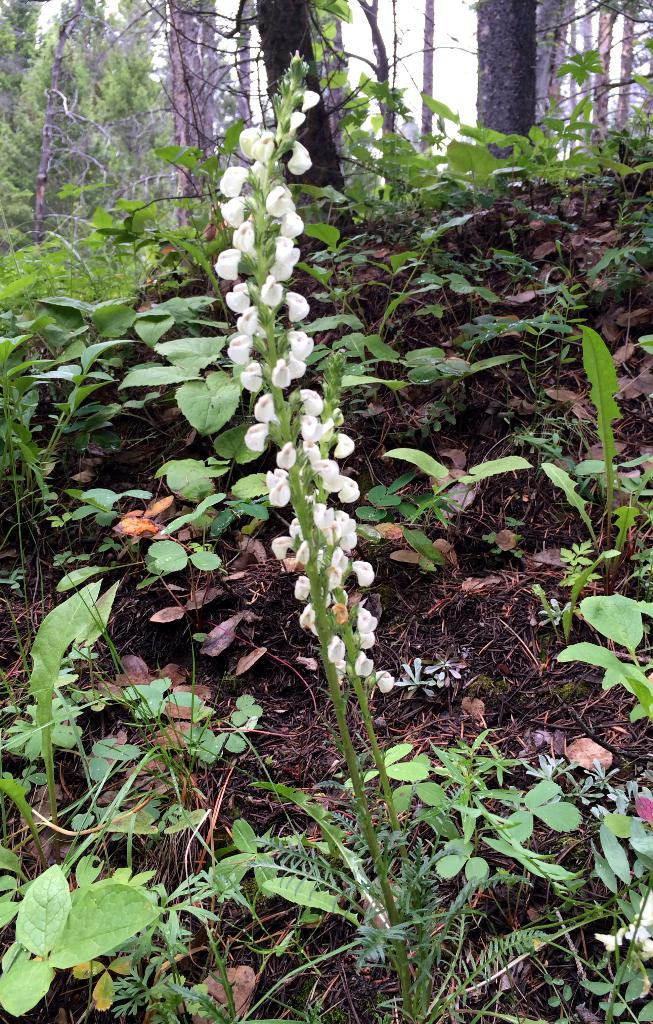Tree: (1, 0, 653, 249)
